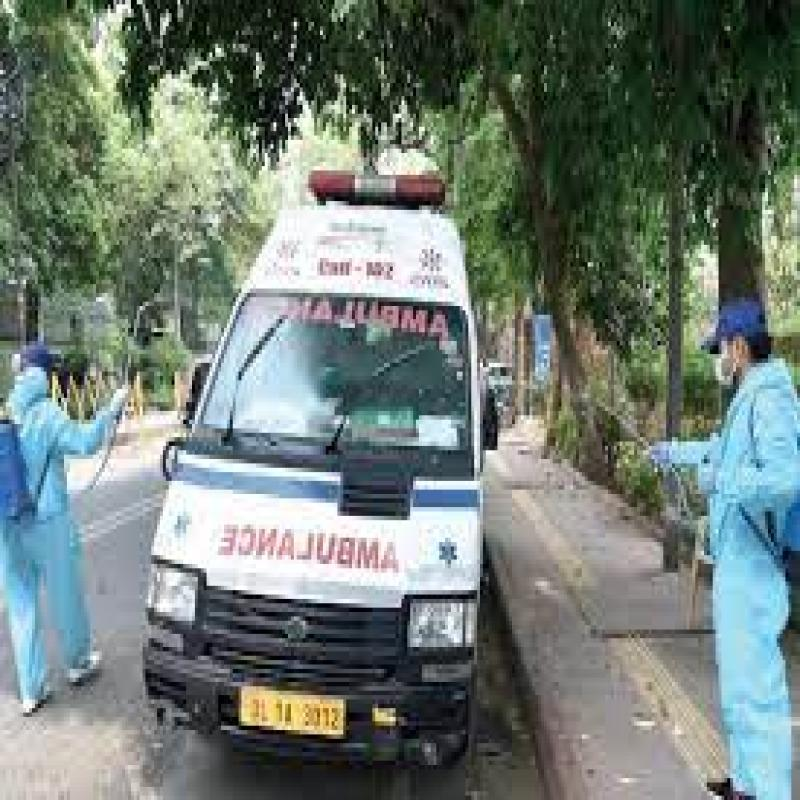ambulance: (169, 187, 471, 787)
